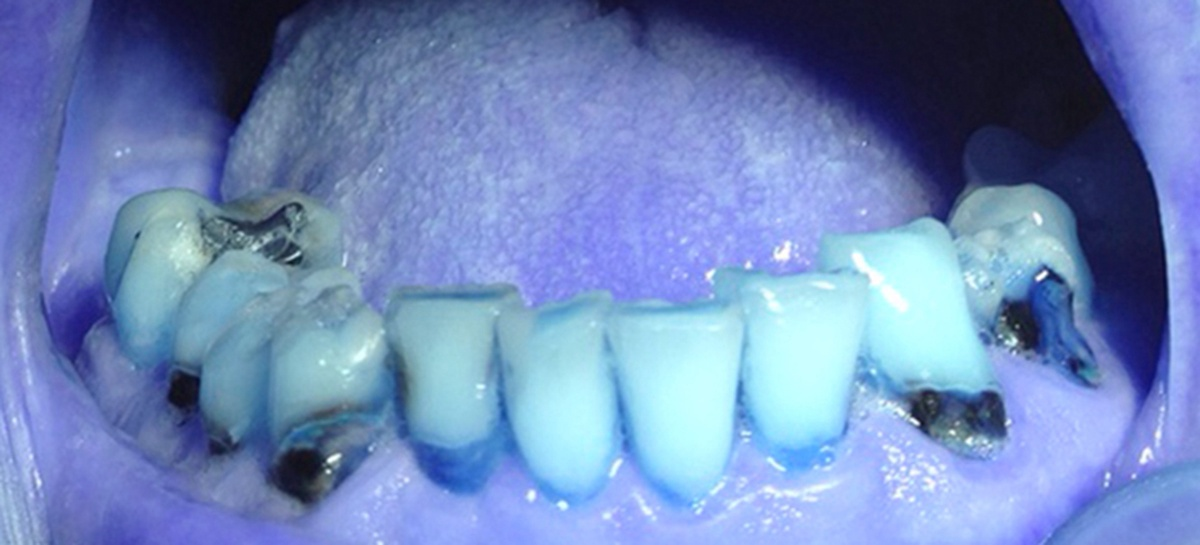karies: (986, 267, 1102, 383), (147, 358, 244, 466), (268, 415, 382, 502), (910, 390, 1011, 461), (416, 432, 505, 493), (369, 344, 418, 406)
